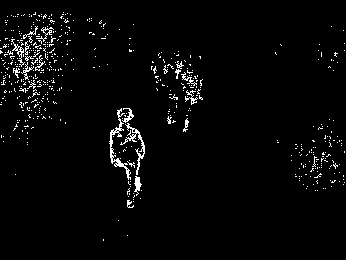person: (109, 107, 148, 205)
